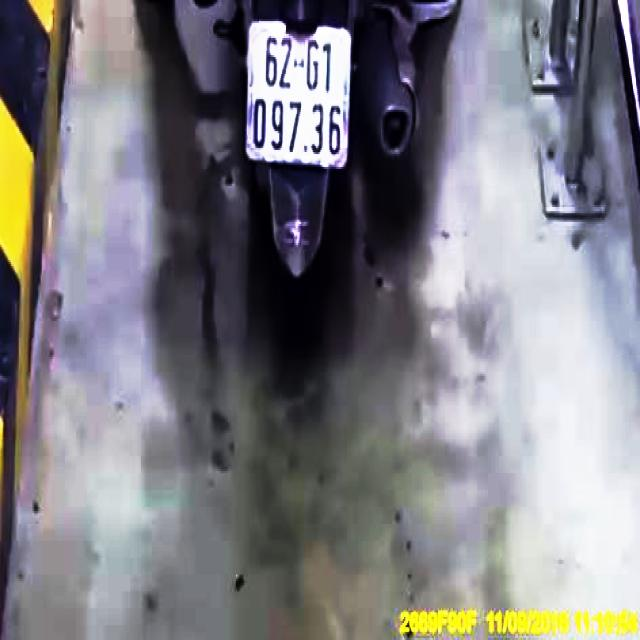license_plate: (248, 24, 351, 165)
